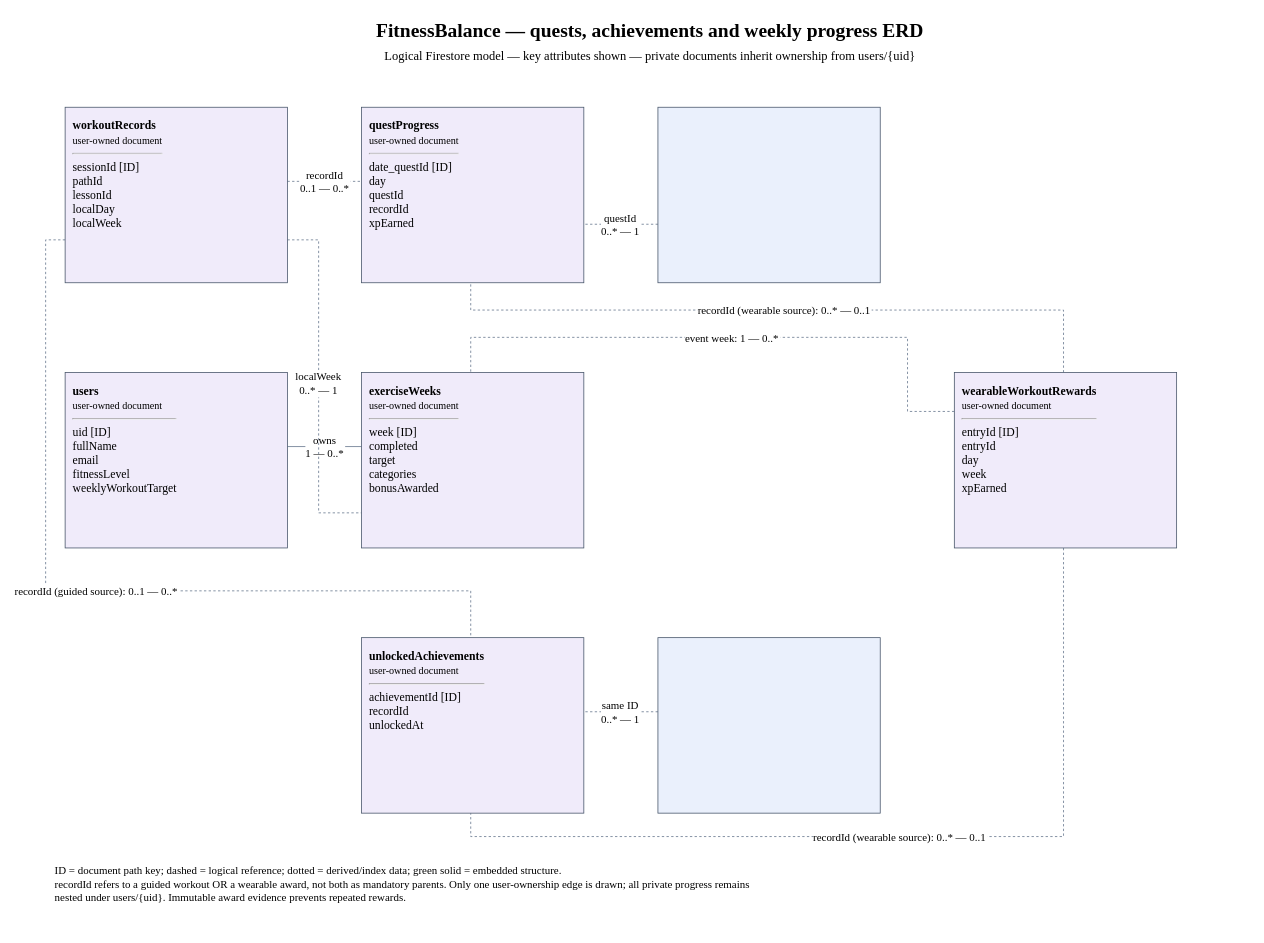
The diagram is 1264 pixels wide and 943 high, and some of its shapes have lost their labels. Each missing label, with the centre of its shape:
"achievements shared catalogue achievementId [ID] name description" goes at point (768, 725).
"quests shared catalogue questId [ID] name target bonusXp" goes at point (768, 194).
